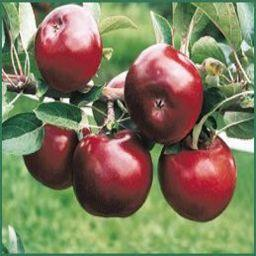apple: (124, 45, 203, 142), (71, 131, 153, 217), (158, 134, 237, 223), (35, 4, 103, 92), (23, 124, 78, 189)
